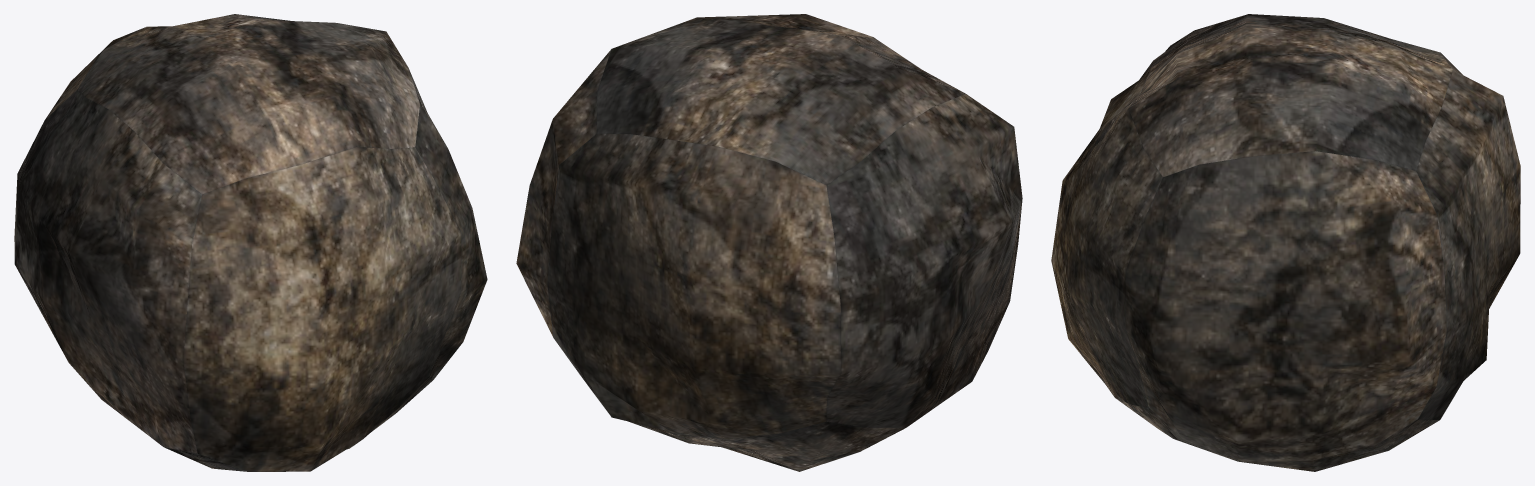
The model's file is rock_d_06.obj.
3 renders of one model, left to right at view 1: azimuth 30°, elevation 25°; view 2: azimuth 150°, elevation 25°; view 3: azimuth 270°, elevation 25°, orthographic. The views are drawn at different scales.
Parts seen in each view (by area): view 1: rockLP001; view 2: rockLP001; view 3: rockLP001.
Part boxes in pixels (<box>): rockLP001: <box>14,14,487,471</box>; rockLP001: <box>516,14,1022,471</box>; rockLP001: <box>1051,14,1520,471</box>.
Size of the model in its own units: 2.22 by 2.1 by 2.25.
